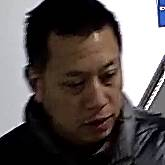qg: (20, 14, 143, 137)
